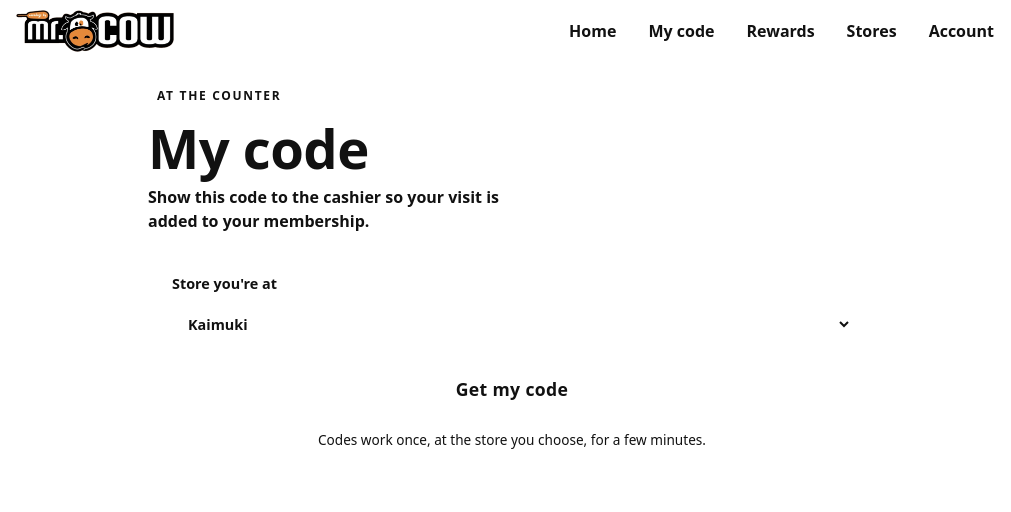
four-digit code › issues a code for the chosen store, shows the digits with a countdown, and cancels
The image size is (1011, 512).
What coordinates should you click on to do the following:
click the button "Get my code"
I would click on:
 (512, 389)
Its box is [172,362,852,416].
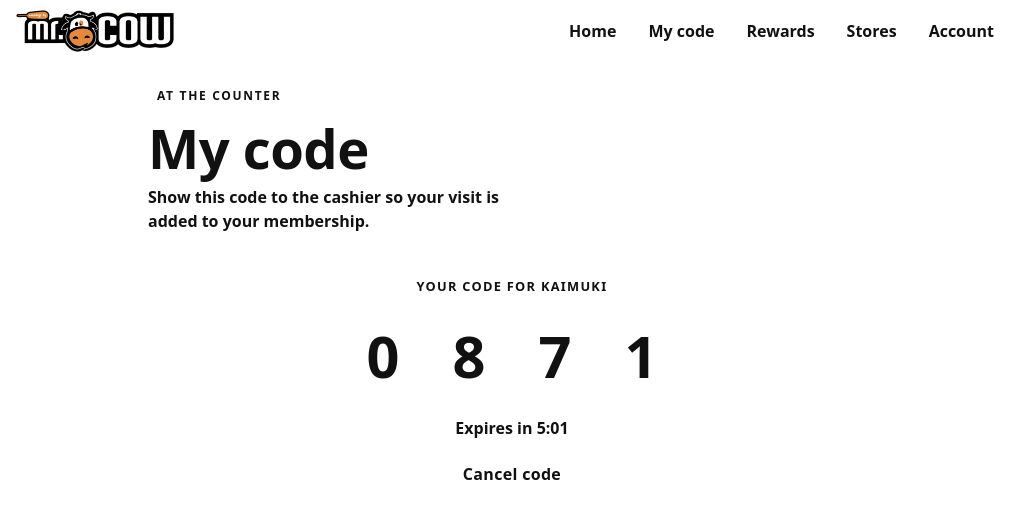
Expected: the element named "Code 0 8 7 1" is shown, [345,308,679,404]
Expected: the text "Expires in 5:01" is shown, [455,416,569,440]
What coordinates should you click on to do the following:
click the button "Cancel code"
I would click on:
 (512, 474)
Its box is [443,452,581,496].
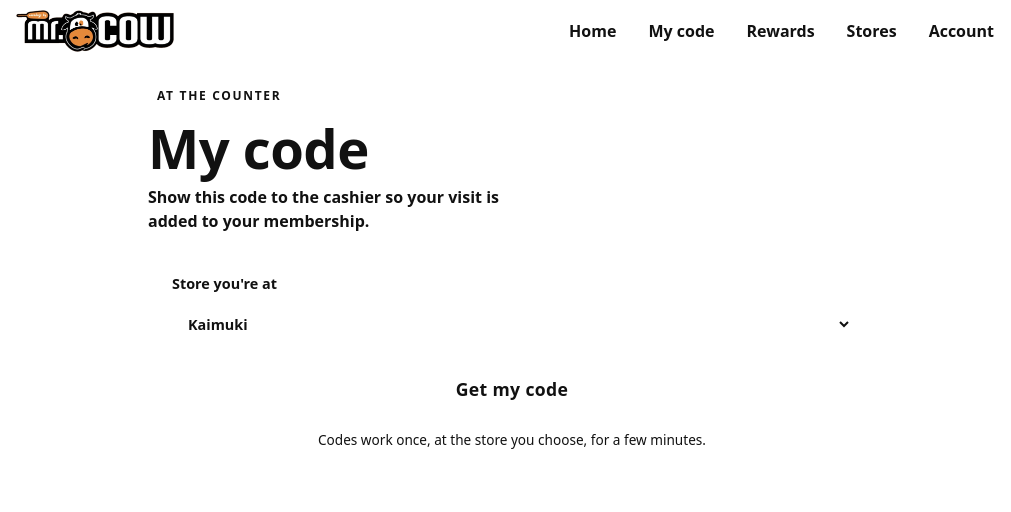
Expected: the button "Get my code" is shown, [172,362,852,416]
